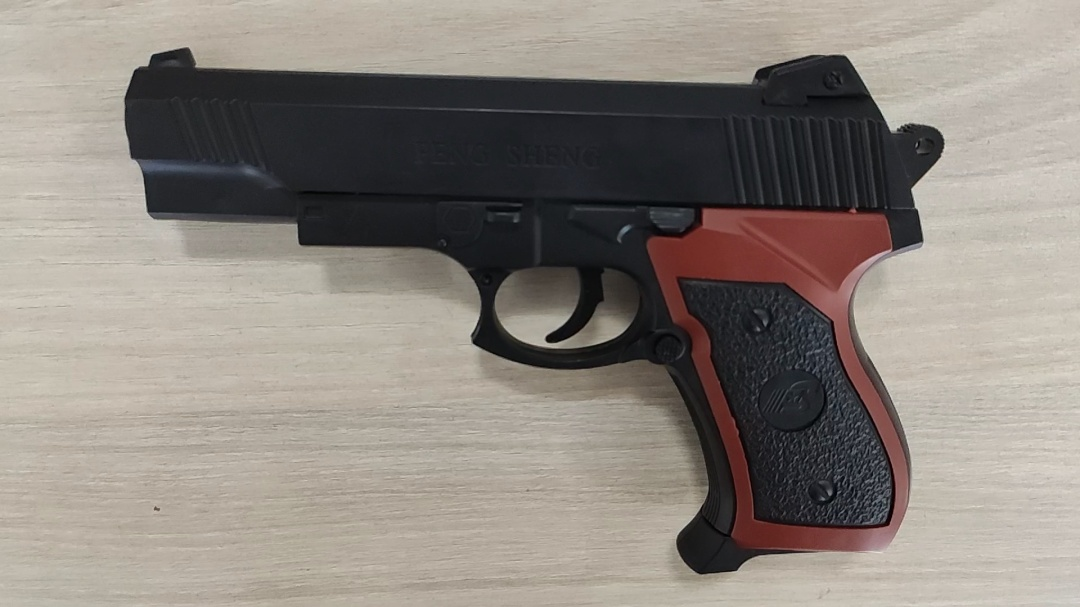gun: (404, 216, 550, 304)
